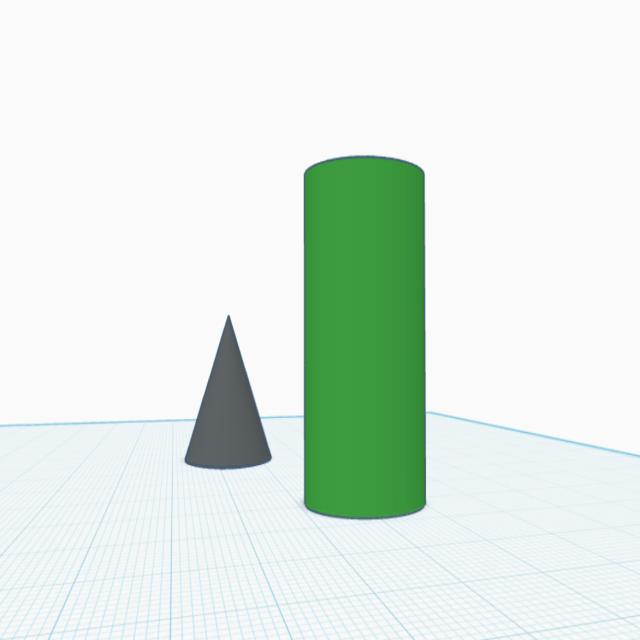cone: (180, 309, 274, 476)
